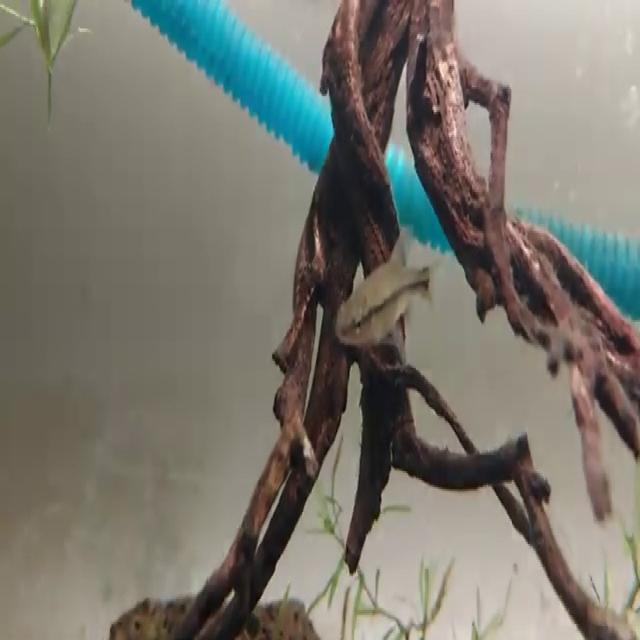Cakil Baligi: (332, 241, 441, 357)
